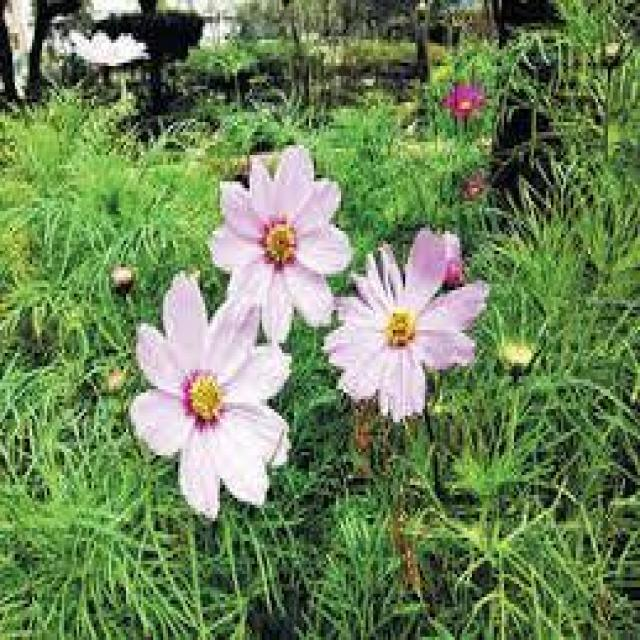organic waste: (119, 264, 324, 511), (325, 234, 488, 426), (193, 147, 351, 335)
